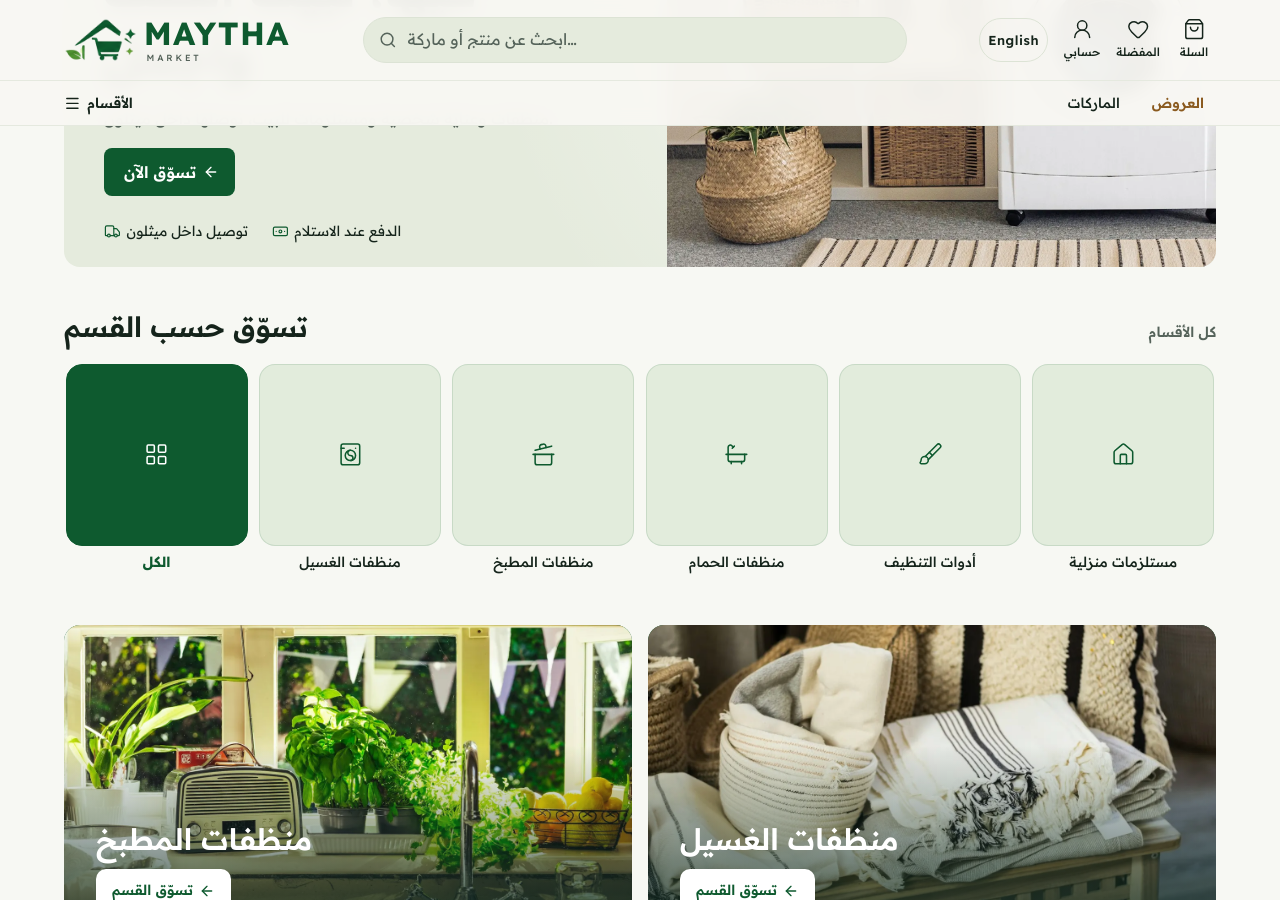
storefront › filters by category
The width and height of the screenshot is (1280, 900).
(page scrolled)
Click the button "منظفات المطبخ" at (543, 470), box 451,360 -> 636,580
(page scrolled)
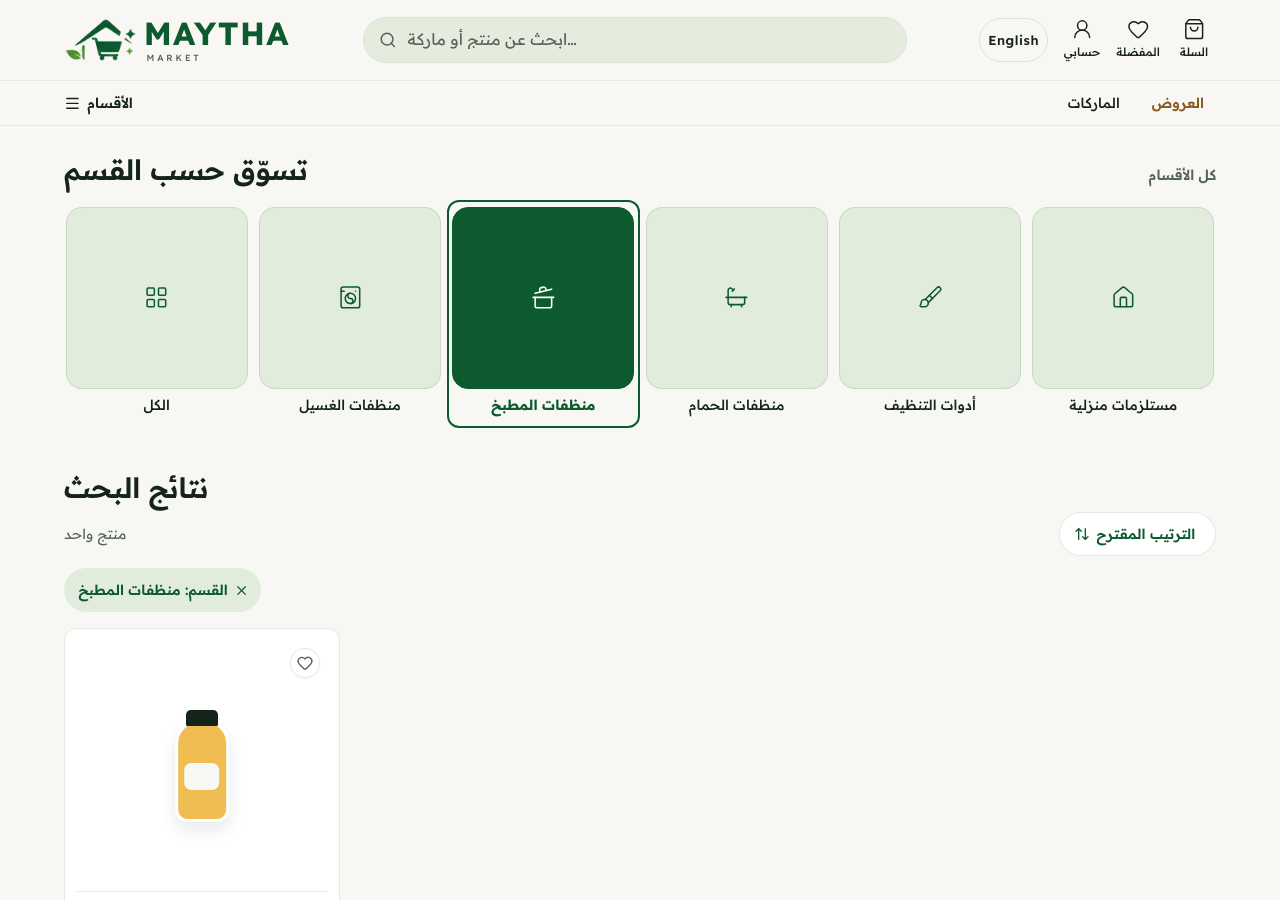
Type "غير موجود" into the search field named "ابحث في المنتجات" at (634, 40), box 362,17 -> 906,63
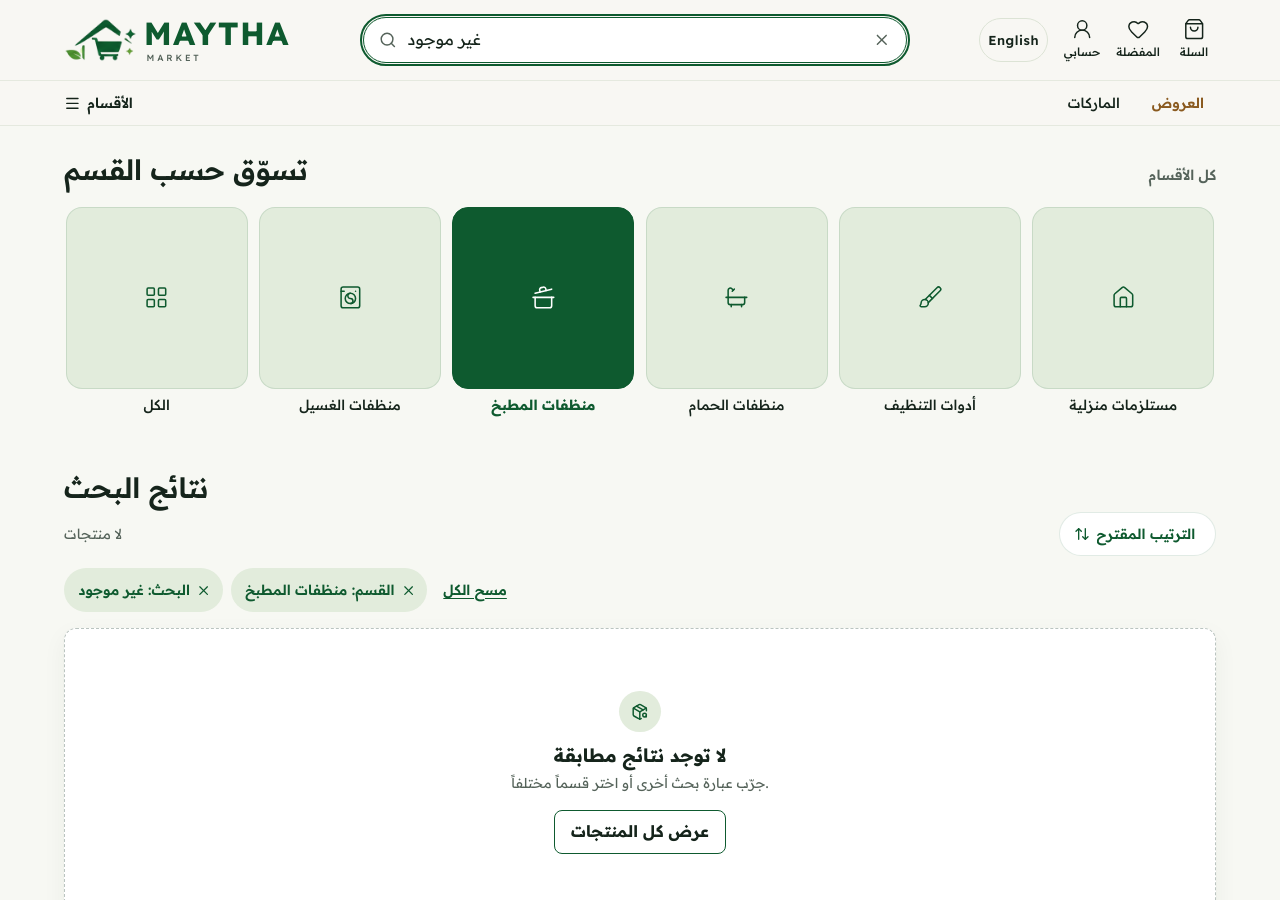
Result: the heading "لا توجد نتائج مطابقة" is shown at 554,743 -> 726,770
Click the button "عرض كل المنتجات" at (640, 832), box 554,810 -> 726,854
(page scrolled)
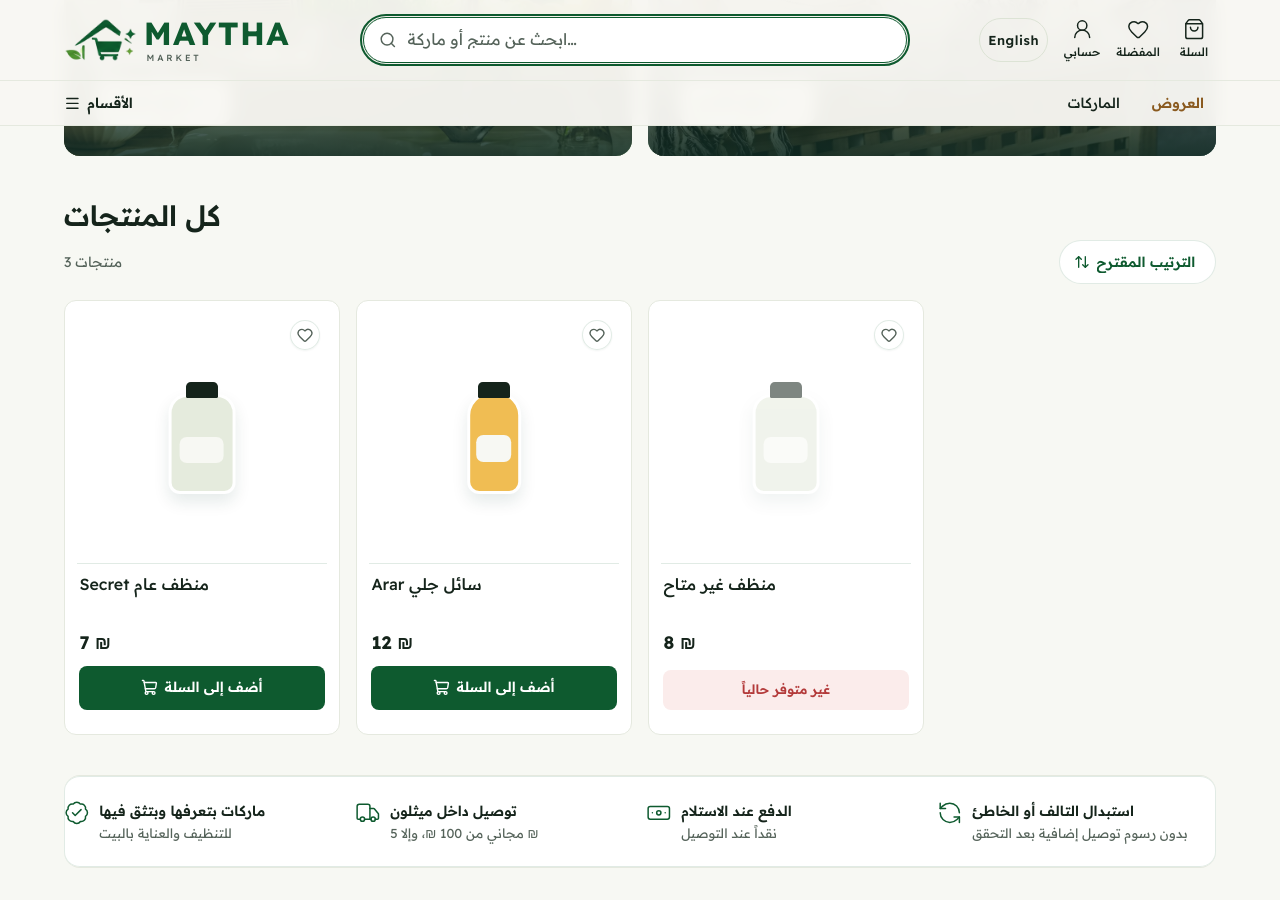
Result: the text "منظف عام Secret" is shown at 79,574 -> 209,594
